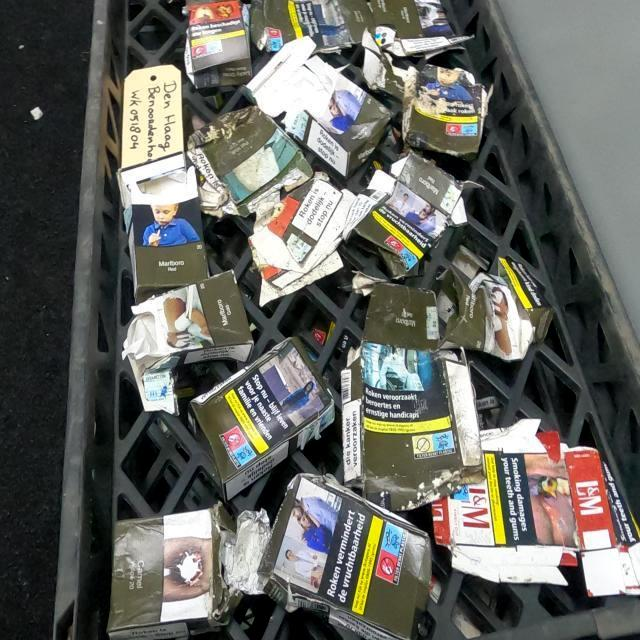Paper: (432, 417, 640, 598), (256, 472, 432, 640), (341, 284, 483, 484), (190, 335, 336, 503), (343, 146, 487, 280), (360, 22, 494, 158), (107, 498, 235, 640), (250, 173, 372, 309), (114, 148, 210, 304), (185, 108, 313, 215), (121, 265, 255, 367), (444, 252, 554, 361), (182, 0, 252, 92), (369, 0, 477, 58), (251, 0, 375, 50)
